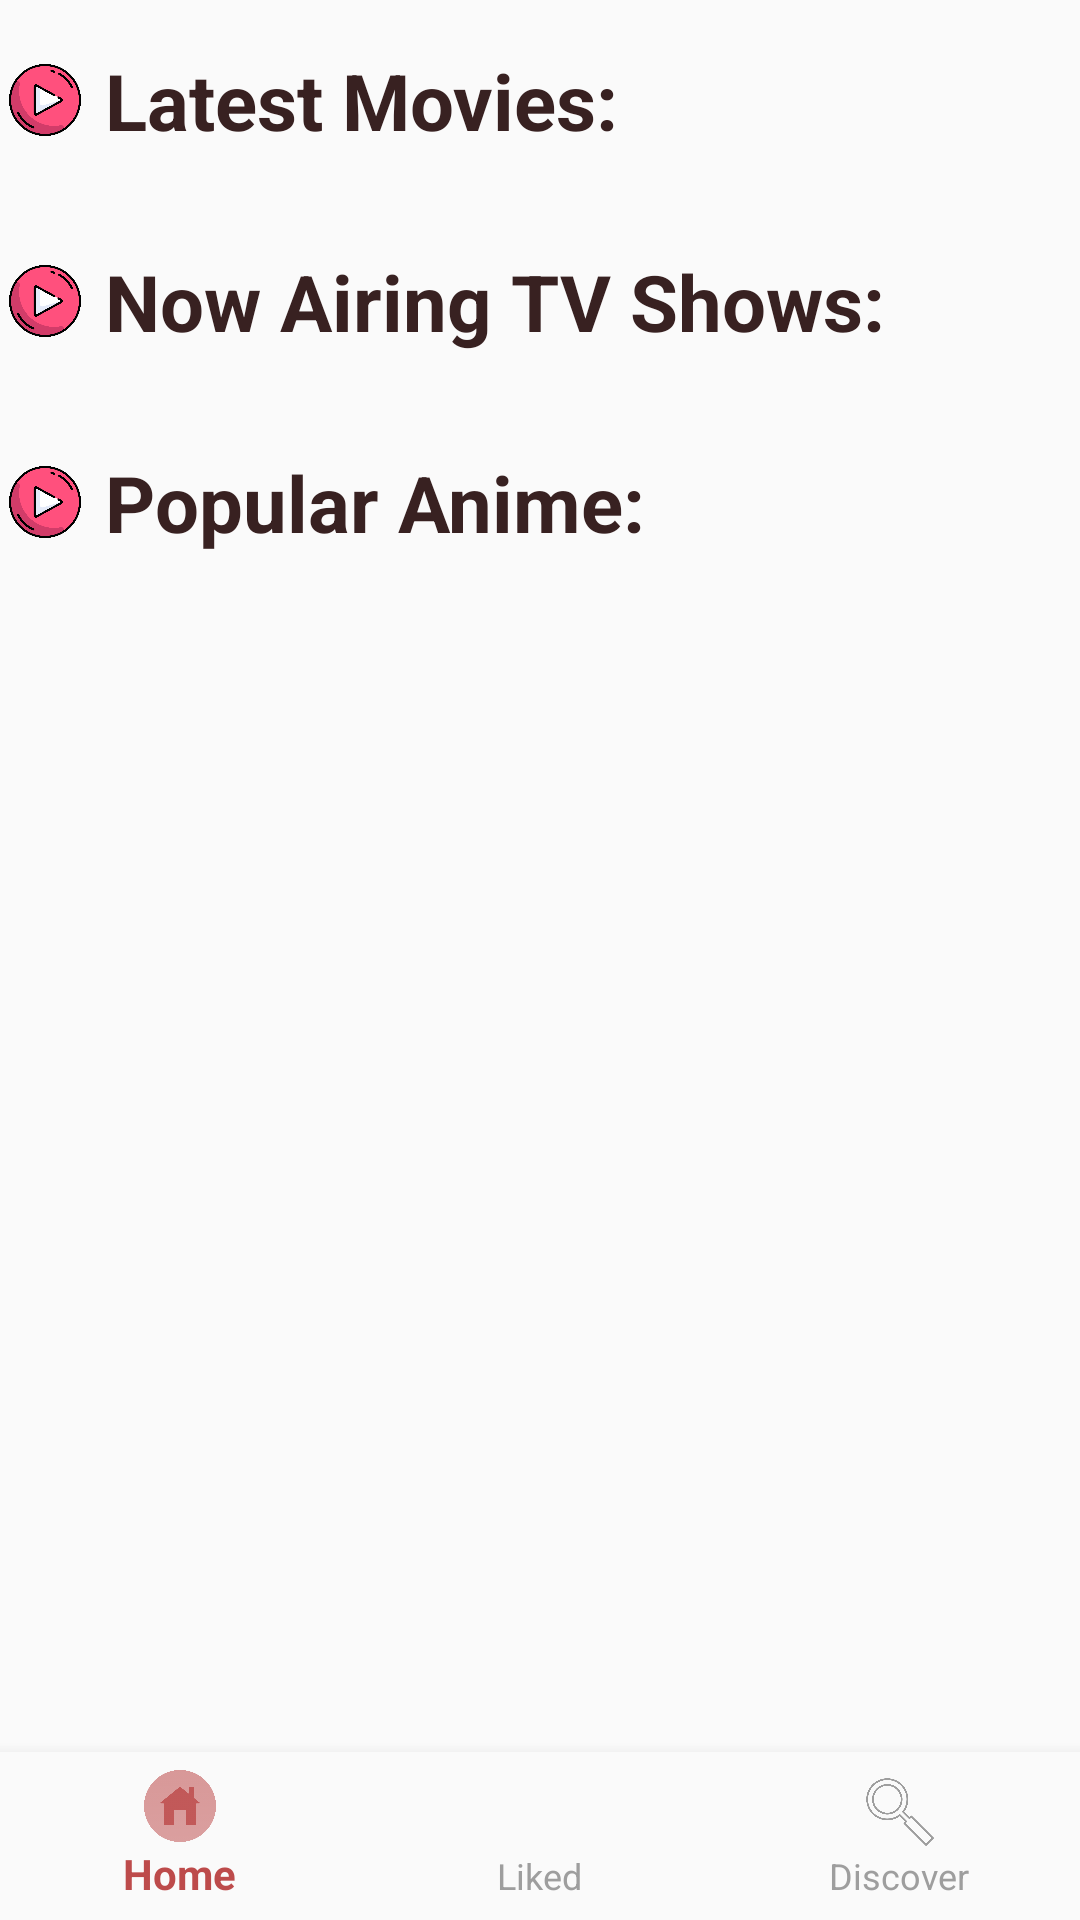

Point at icon controls on the screen. Image size 1080x1920, points as (x,y).
play: (45,100), (45,301), (45,502)
